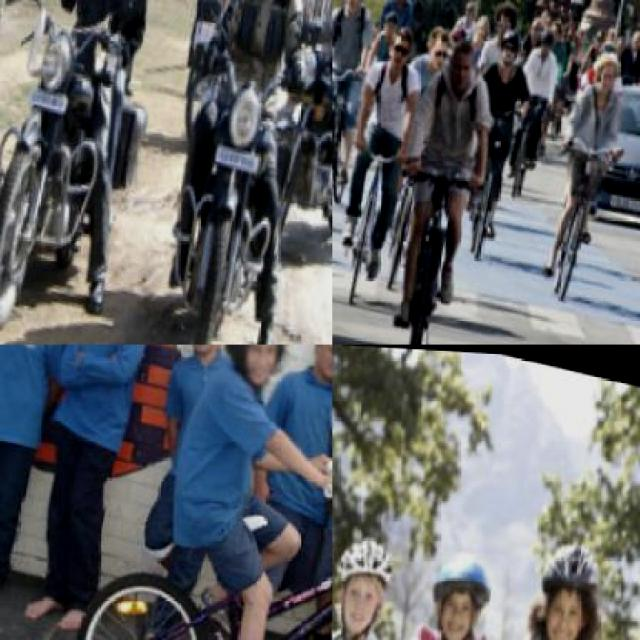With Helmet: (523, 518, 614, 638), (418, 538, 502, 638), (332, 522, 402, 638), (204, 344, 304, 402), (528, 14, 562, 60), (496, 19, 526, 70)
Without Helmet: (438, 24, 489, 94), (584, 36, 630, 98), (380, 11, 418, 72), (454, 0, 483, 26), (335, 0, 371, 14), (391, 0, 418, 8)
